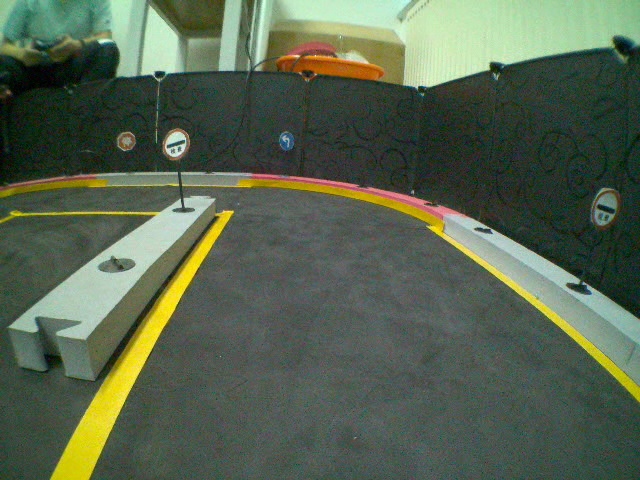Check: (589, 186, 620, 231), (160, 128, 192, 159)
Stop: (114, 129, 138, 151)
turn: (275, 129, 294, 150)
